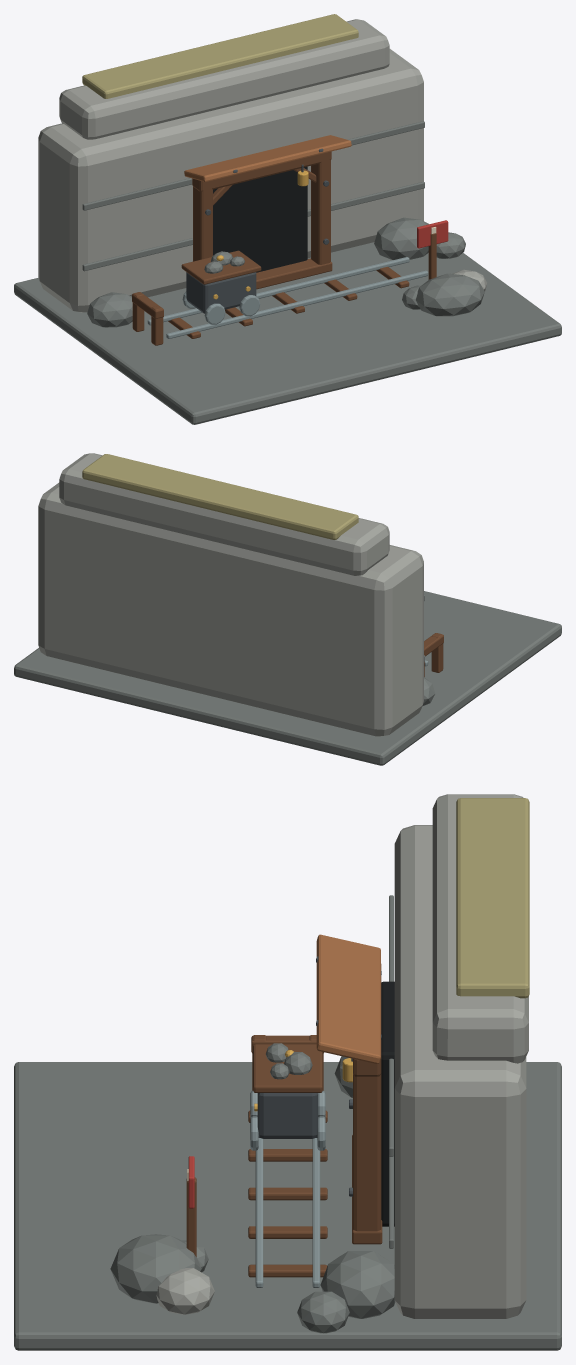
Rendered from environment_mine_entrance_v01.glb.
3 views of the same model, one above another, from view 1: azimuth 30°, elevation 25°; view 2: azimuth 150°, elevation 25°; view 3: azimuth 270°, elevation 25° (orthographic). The views are drawn at different scales.
Visible parts, largest first — view 1: GEO_MineCliff, GEO_MineGround, GEO_MineCliffUpper, GEO_CliffTopGrowth, GEO_MineVoid, GEO_MineHood, GEO_SpoilRock, GEO_MineSupport.001, GEO_MineCart, GEO_TalusRock.001, GEO_Rail, GEO_CliffStrata (+9 smaller); view 2: GEO_MineCliff, GEO_MineGround, GEO_MineCliffUpper, GEO_CliffTopGrowth; view 3: GEO_MineGround, GEO_MineCliff, GEO_CliffTopGrowth, GEO_MineCliffUpper, GEO_MineHood, GEO_MineSupport.001, GEO_SpoilRock, GEO_TalusRock.001, GEO_MineCart, GEO_MineVoid, GEO_CartLip, GEO_SpoilRock.001 (+8 smaller).
Part boxes in pixels (bbox=[...]): GEO_MineCliff: bbox=[38, 49, 423, 312]; GEO_MineGround: bbox=[14, 242, 561, 424]; GEO_MineCliffUpper: bbox=[59, 19, 389, 139]; GEO_CliffTopGrowth: bbox=[82, 14, 358, 98]; GEO_MineVoid: bbox=[213, 166, 307, 272]; GEO_MineHood: bbox=[184, 135, 351, 181]; GEO_SpoilRock: bbox=[416, 273, 484, 316]; GEO_MineSupport.001: bbox=[311, 152, 330, 264]; GEO_MineCart: bbox=[186, 272, 256, 313]; GEO_TalusRock.001: bbox=[374, 217, 429, 259]; GEO_Rail: bbox=[166, 270, 428, 338]; GEO_CliffStrata: bbox=[82, 181, 424, 271]; GEO_MineCliff: bbox=[38, 482, 423, 736]; GEO_MineGround: bbox=[14, 591, 561, 765]; GEO_MineCliffUpper: bbox=[59, 453, 389, 575]; GEO_CliffTopGrowth: bbox=[82, 454, 358, 539]; GEO_MineGround: bbox=[14, 1062, 561, 1350]; GEO_MineCliff: bbox=[394, 825, 526, 1318]; GEO_CliffTopGrowth: bbox=[456, 798, 529, 998]; GEO_MineCliffUpper: bbox=[432, 794, 528, 1063]; GEO_MineHood: bbox=[316, 934, 380, 1063]; GEO_MineSupport.001: bbox=[353, 1074, 381, 1231]; GEO_SpoilRock: bbox=[110, 1234, 201, 1303]; GEO_TalusRock.001: bbox=[320, 1251, 395, 1318]; GEO_MineCart: bbox=[257, 1093, 318, 1138]; GEO_MineVoid: bbox=[381, 981, 394, 1226]; GEO_CartLip: bbox=[253, 1044, 322, 1092]; GEO_SpoilRock.001: bbox=[156, 1268, 214, 1314].
Bounding box in the file's own units: 6.44 × 3.53 × 5.4.
